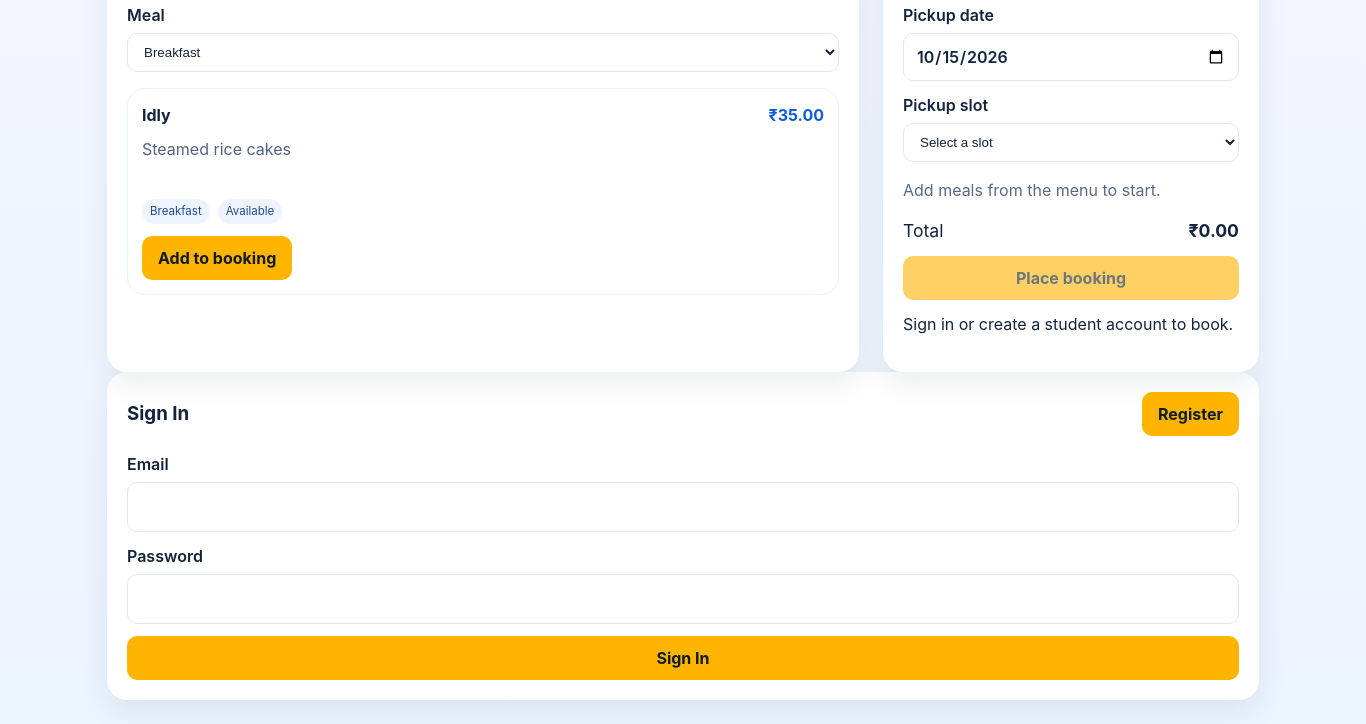
it: SmartMeal application › submits the selected date, pickup slot, and item quantities
This screenshot has width=1366, height=724.
(page scrolled)
Expected: the heading "Idly" is shown, [142,103,171,127]
Type "student@example.test" into the field labelled "Email".
click(683, 508); type("student@example.test")  # box [127,482,1239,532]
Type "strong-pass-1" into the password field labelled "Password".
click(683, 600); type("strong-pass-1")  # box [127,574,1239,624]
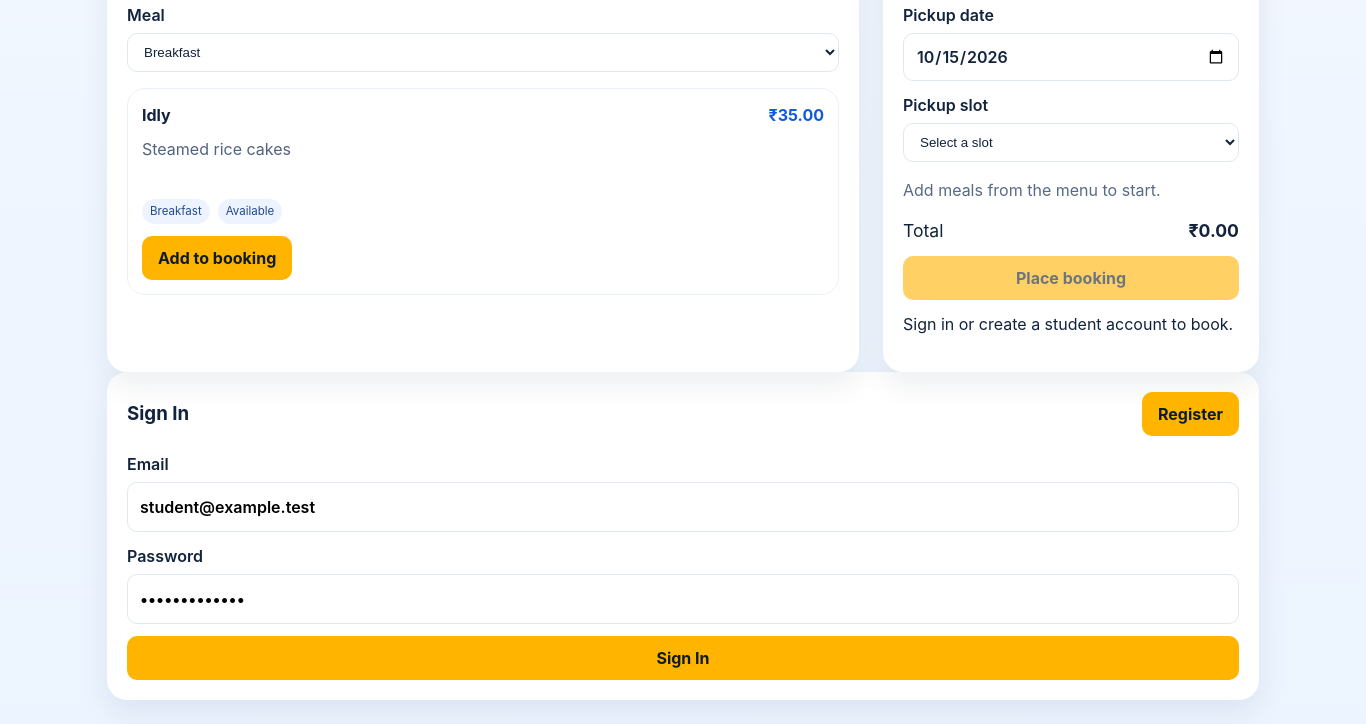
Click the button "Sign In".
click(683, 658)  # box [127,636,1239,680]
(page scrolled)
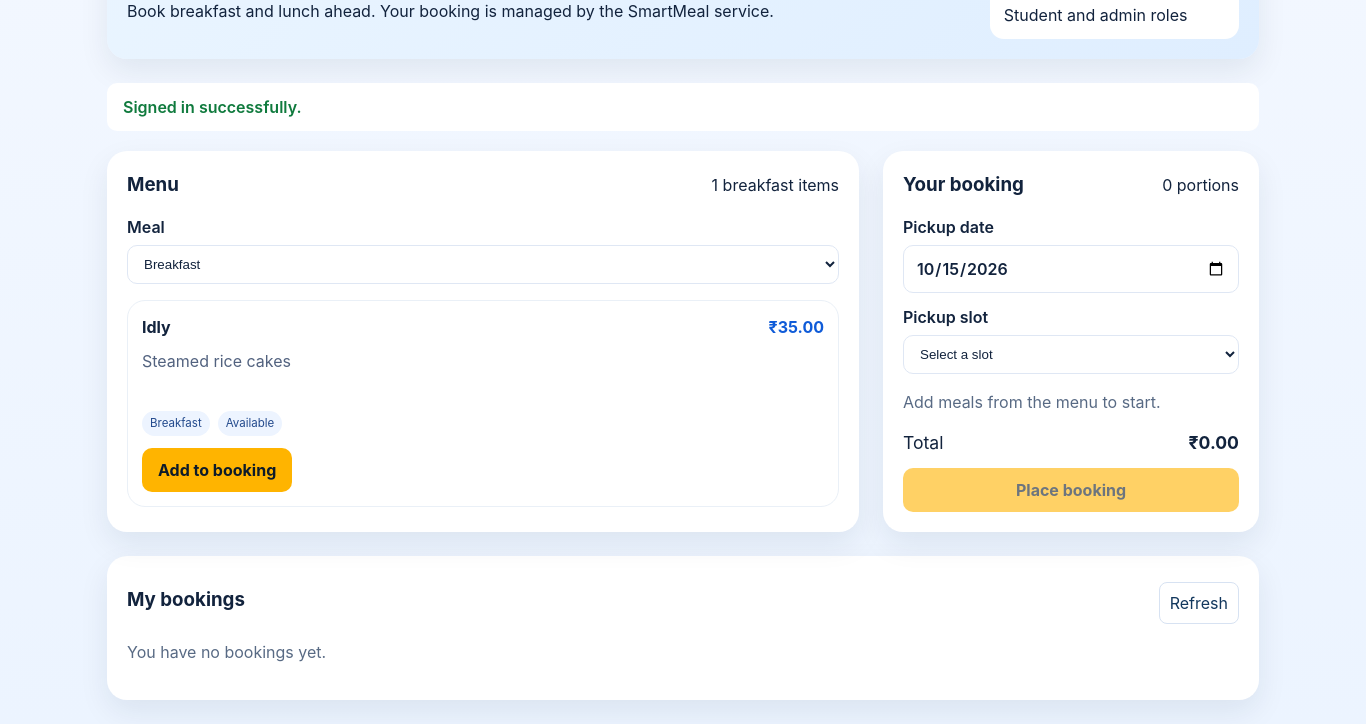
Click the button "Add to booking".
click(217, 470)  # box [142,448,292,492]
(page scrolled)
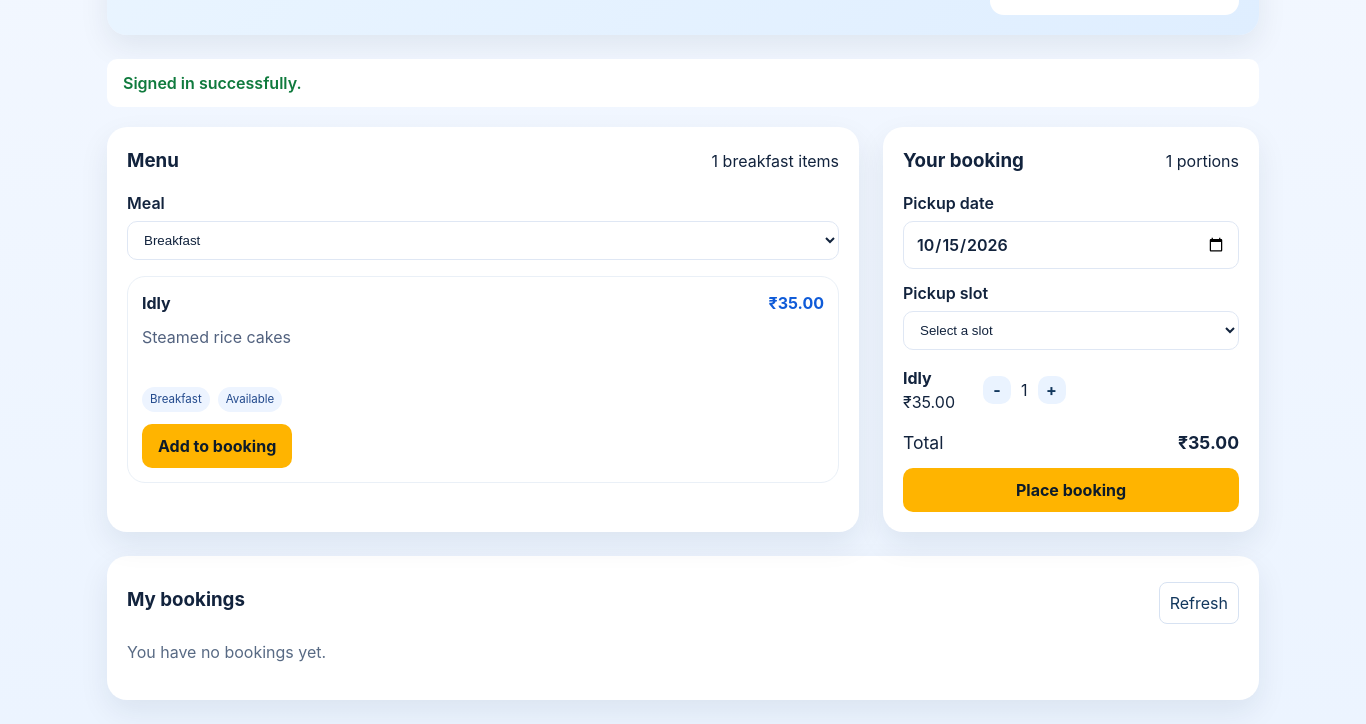
Type "2099-05-06" into the date field labelled "Pickup date".
click(1071, 245); type("2099-05-06")  # box [903,221,1239,269]
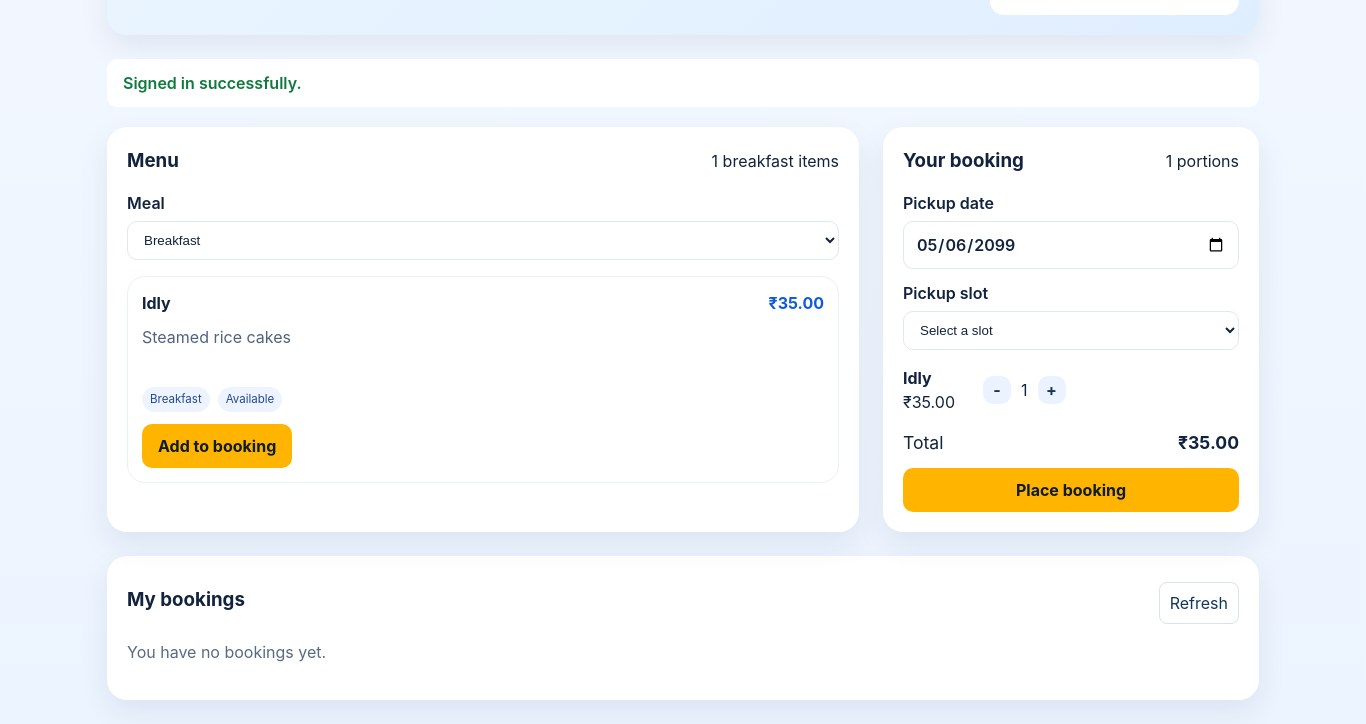
Select "Breakfast 1 (08:00–09:00)" in the dropdown labelled "Pickup slot" at (1071, 331), box [903,311,1239,350]
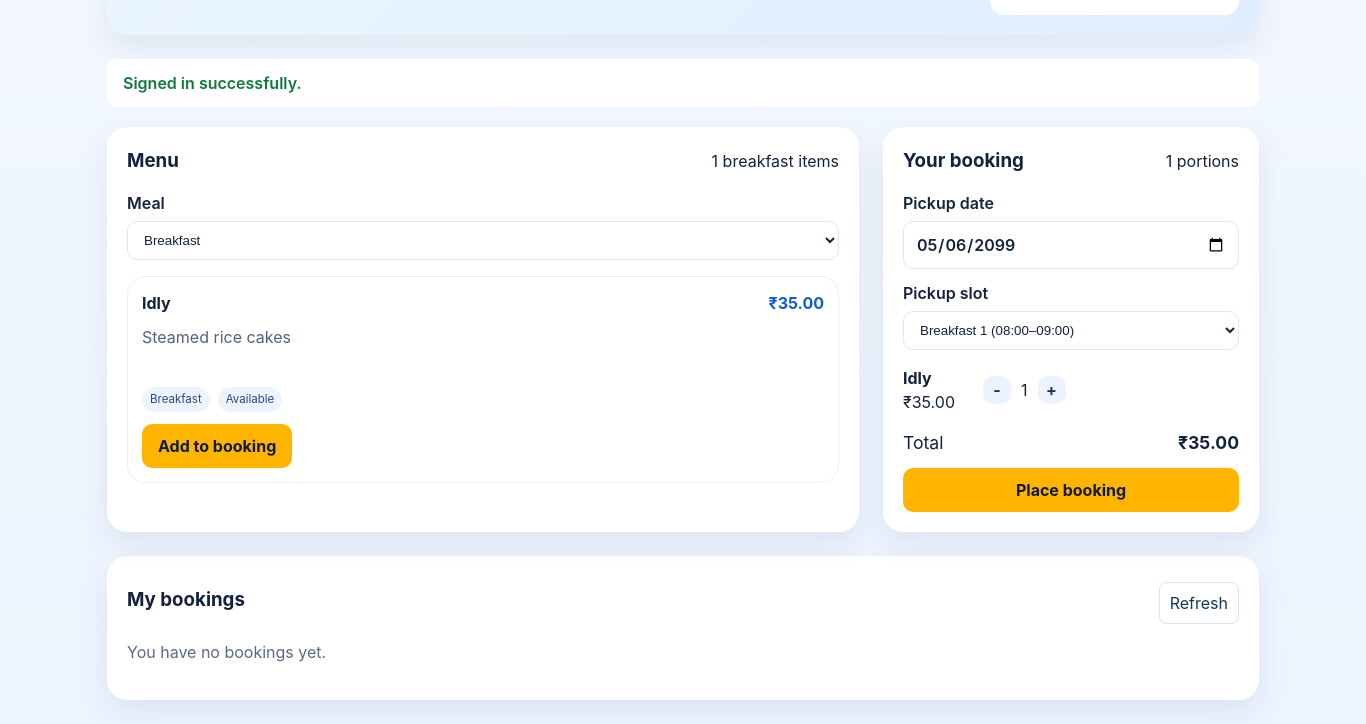
Click the button "Place booking".
click(1071, 490)  # box [903,468,1239,512]
(page scrolled)
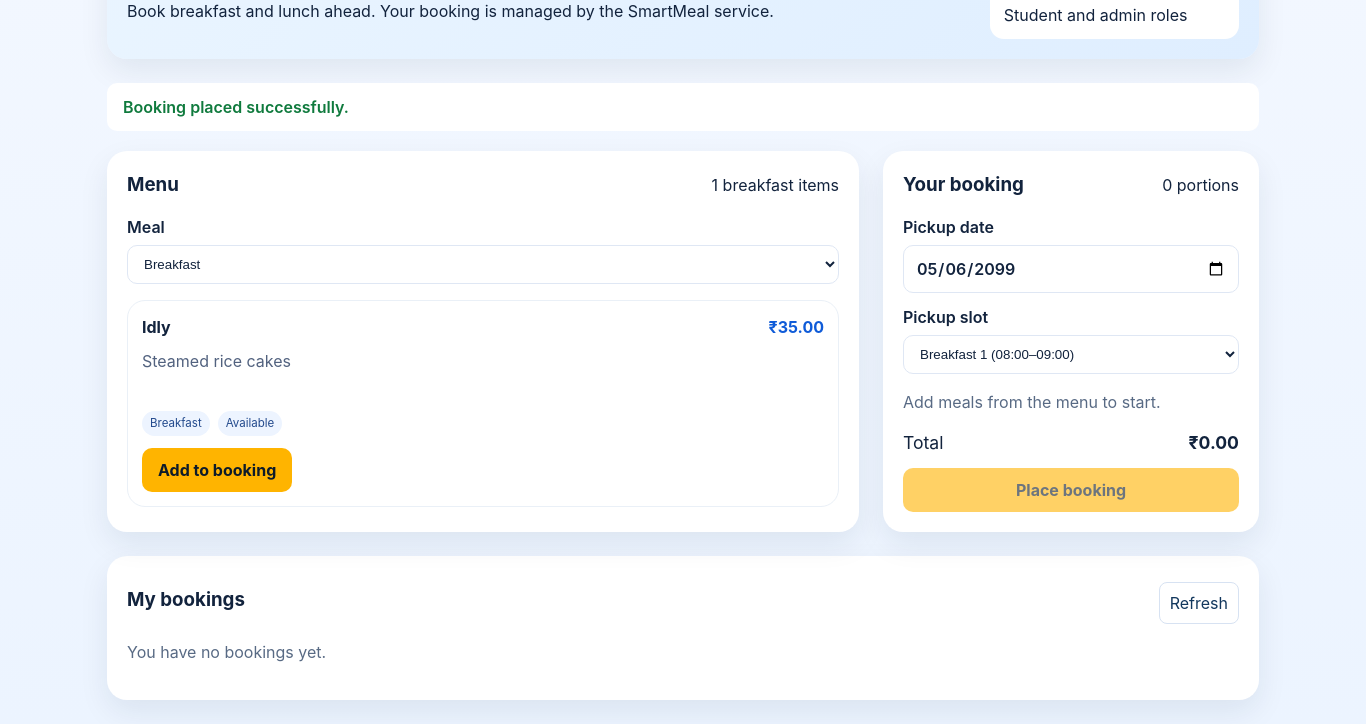
Expected: the text "Booking placed successfully." is shown, [107,83,1259,131]
